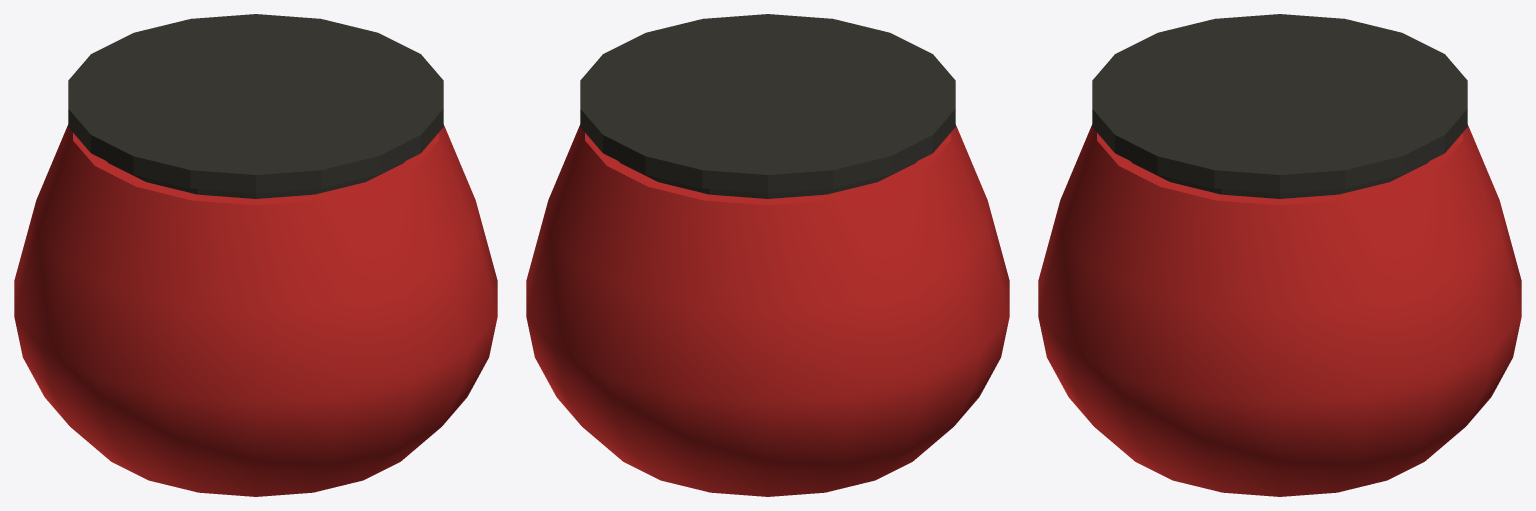
File: Jam.FBX
The picture shows the model from 3 angles, left to right: view 1: azimuth 30°, elevation 25°; view 2: azimuth 150°, elevation 25°; view 3: azimuth 270°, elevation 25°; orthographic projection.
Parts seen in each view (by area): view 1: Jam; view 2: Jam; view 3: Jam.
Part boxes in pixels (x1,y1,x2,y2): Jam: (14,14,497,496); Jam: (526,14,1009,496); Jam: (1038,14,1521,496).
Bounding box in the file's own units: 18.01 × 13.43 × 17.74.
